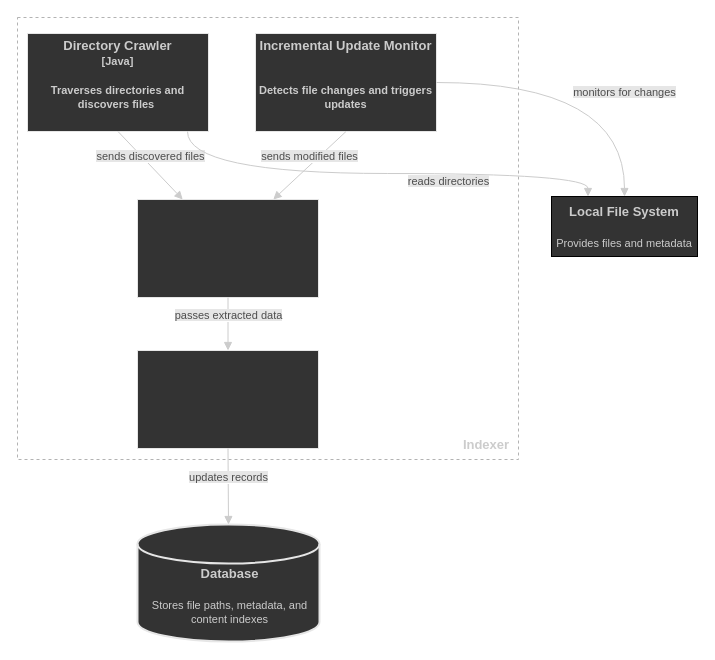
This 715x660 diagram has some shape labels left out. The box of each missing label's shape, as (x1, y1, x2, y2) in pixels:
Database Access Stores extracted data into the database: (136, 350, 318, 448)
Extractor Extracts file content and metadata: (136, 198, 318, 298)
